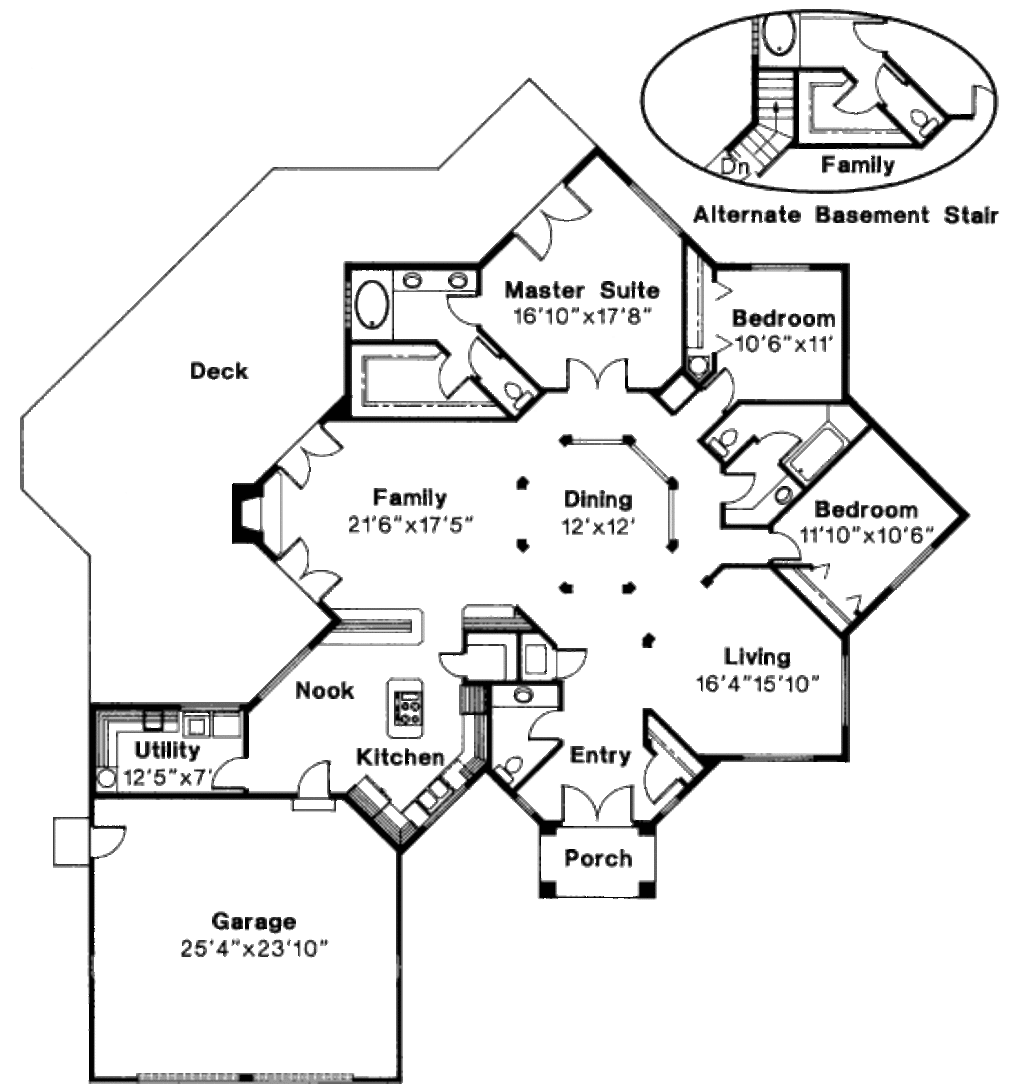door: (260, 406, 359, 495), (503, 178, 596, 268), (270, 528, 340, 611), (560, 773, 642, 829), (560, 353, 633, 392), (291, 765, 340, 816), (448, 290, 503, 334), (462, 328, 503, 384), (640, 758, 687, 806), (838, 72, 877, 121), (853, 14, 896, 58), (209, 753, 260, 790), (862, 55, 904, 99), (92, 823, 138, 860), (764, 423, 801, 468), (767, 523, 806, 565), (713, 467, 752, 507), (437, 351, 467, 402), (552, 643, 589, 684), (708, 363, 737, 411), (964, 84, 1001, 119), (525, 712, 564, 745), (440, 641, 472, 680)
kitchen_bar: (365, 673, 435, 748)
large_sink: (487, 745, 531, 797), (901, 102, 948, 139), (706, 414, 738, 461)
small_sink: (389, 255, 481, 295), (496, 677, 555, 704)
stairs: (698, 61, 804, 190)
tub: (777, 417, 862, 482), (350, 270, 391, 341)
twin_sink: (404, 773, 469, 811)
